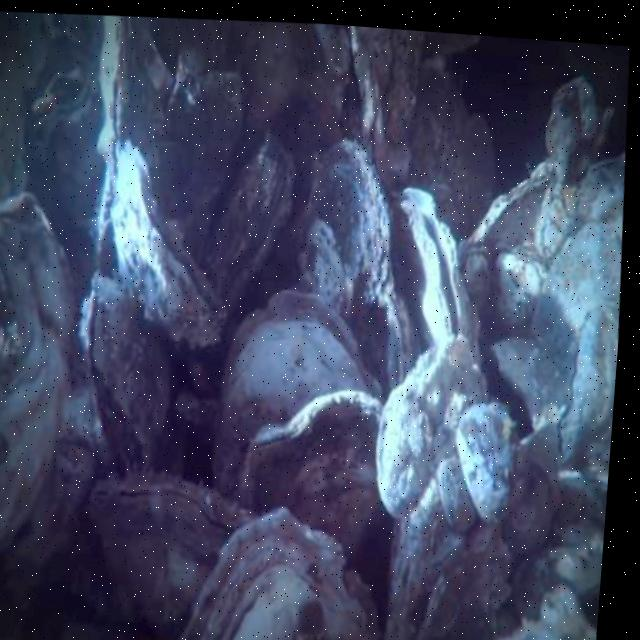Oyster-Closed: (211, 290, 384, 496), (110, 144, 228, 351), (96, 475, 251, 628), (83, 270, 172, 466), (388, 184, 476, 352), (99, 15, 163, 244), (216, 131, 292, 304), (555, 304, 618, 465), (510, 543, 603, 617), (431, 533, 465, 578)
Oyster-Indeterminate: (181, 514, 381, 640), (0, 195, 68, 555), (239, 390, 384, 558), (376, 336, 475, 518), (299, 142, 390, 334), (530, 221, 620, 375), (457, 401, 528, 522), (492, 337, 569, 427), (437, 455, 476, 533)
